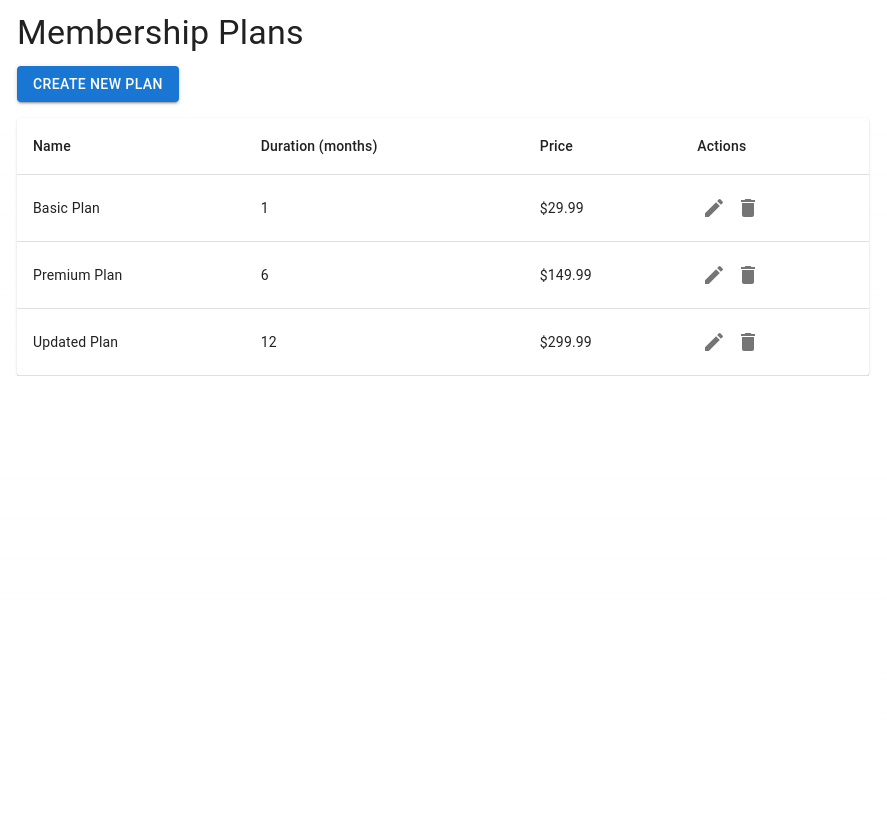
MembershipPlanPage › deletes plan when confirmation is accepted
This screenshot has width=887, height=815.
Click the button named "Delete" in the row of "Premium Plan" at (748,275), box [731, 258, 765, 292]
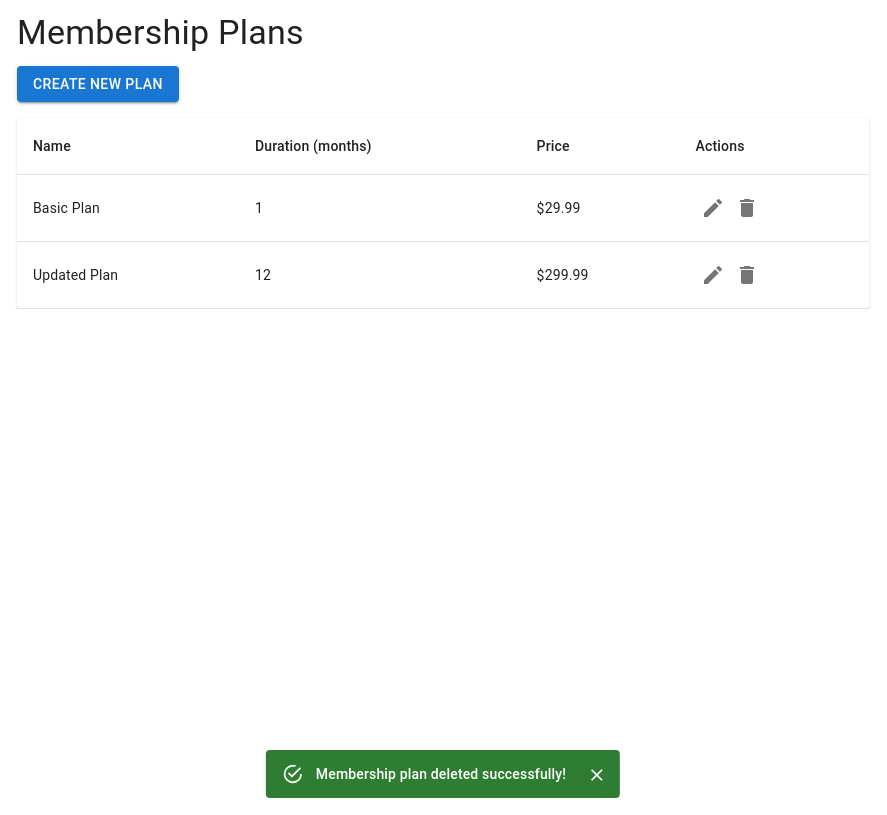
expect the text "Premium Plan" is gone: met
expect the number of rows is 3: met, box [17, 118, 869, 175]; [17, 175, 869, 242]; [17, 242, 869, 309]
